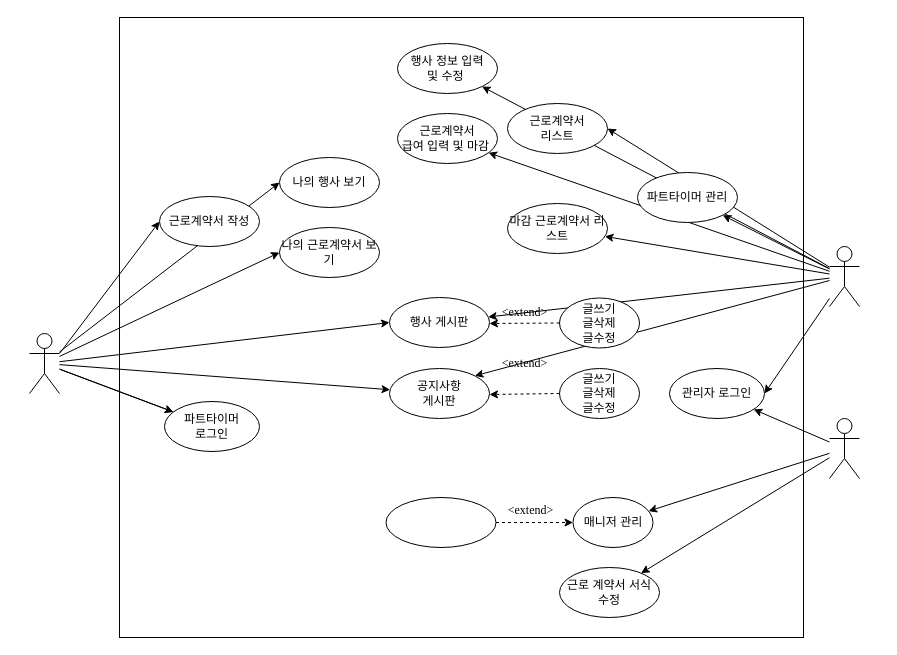
Image size: 897x655. Some labels were removed from this diagram. Here are the shapes that lost their labels. From the top down, the box of each, then its label:
(828, 246, 860, 306): 매니저 관리자
(28, 332, 60, 394): 파트타이머
(828, 418, 860, 478): 부서관리자
(385, 496, 496, 548): 매니저 관리자 등록 매니저 관리자 수정 매니저 관리자 삭제
